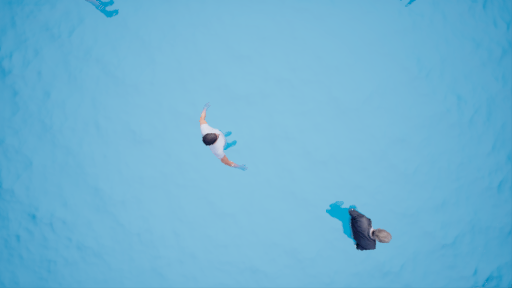person: (319, 196, 397, 253), (188, 98, 247, 170)
